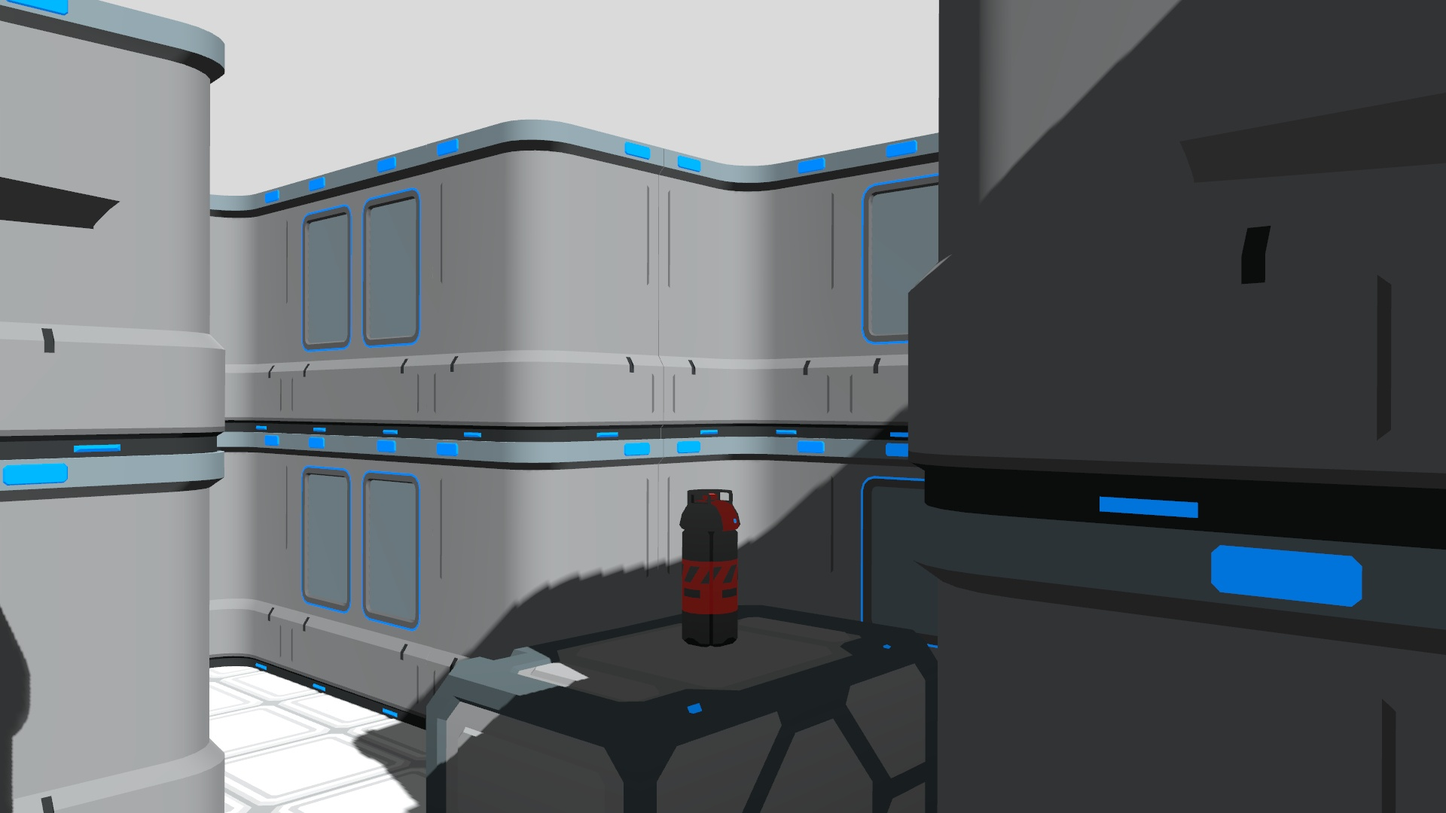red_barrel: (674, 486, 743, 654)
